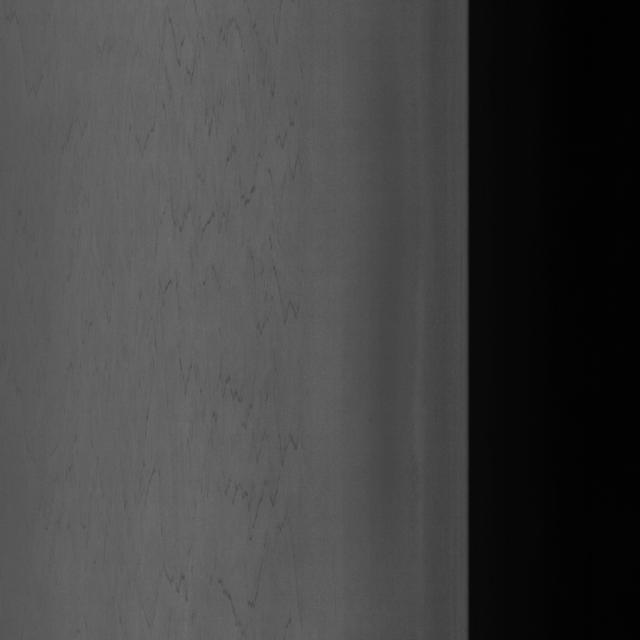inclusion: (147, 55, 322, 590)
